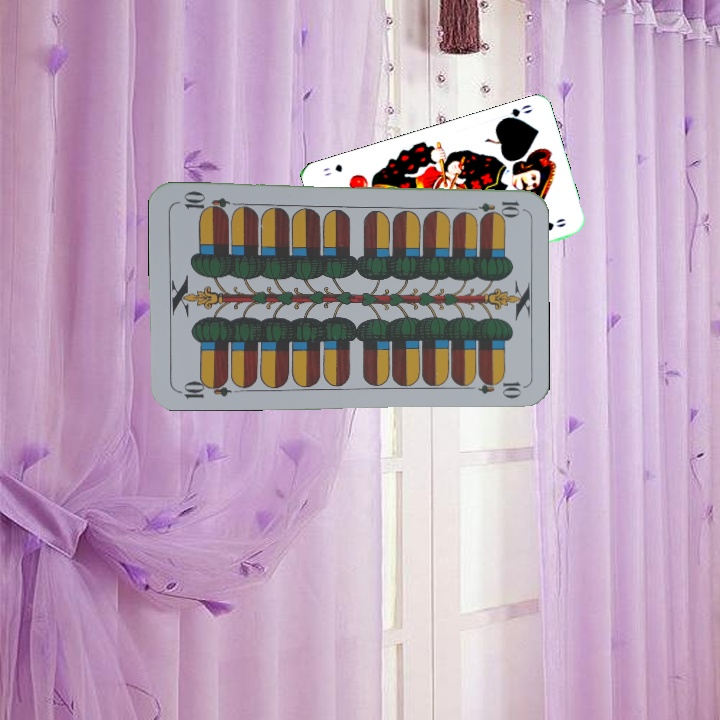E10: (174, 375, 233, 401), (463, 197, 522, 215)
GO: (496, 100, 535, 124)
